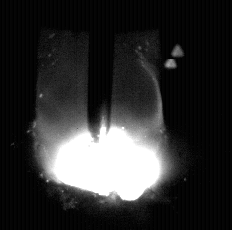arame: (87, 0, 112, 143)
poca: (34, 0, 166, 230)
